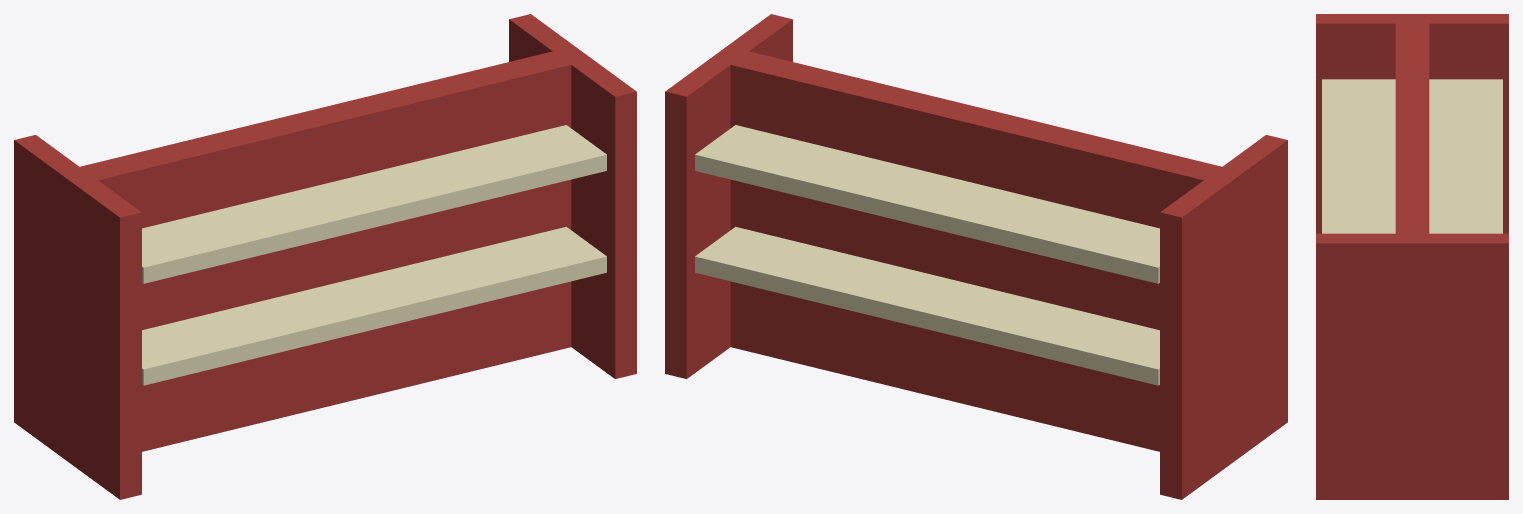
Rendered from Escenario_mueble02.fbx.
3 views of the same model, side by side, from view 1: azimuth 30°, elevation 25°; view 2: azimuth 150°, elevation 25°; view 3: azimuth 270°, elevation 25° (orthographic). The views are drawn at different scales.
Parts seen in each view (by area): view 1: mueble, estante01, estante02; view 2: mueble, estante01, estante02; view 3: mueble, estante01.
Boxes of the visible parts, left/top/right/bottom form: mueble: left=14, top=14, right=636, bottom=499; estante01: left=142, top=125, right=606, bottom=283; estante02: left=142, top=226, right=606, bottom=385; mueble: left=665, top=14, right=1287, bottom=499; estante01: left=695, top=125, right=1159, bottom=283; estante02: left=695, top=226, right=1159, bottom=385; mueble: left=1316, top=14, right=1508, bottom=499; estante01: left=1322, top=79, right=1502, bottom=233.
Bounding box in the file's own units: 805 × 420 × 286.
